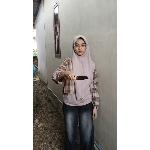Pisau: (63, 72, 93, 84)
